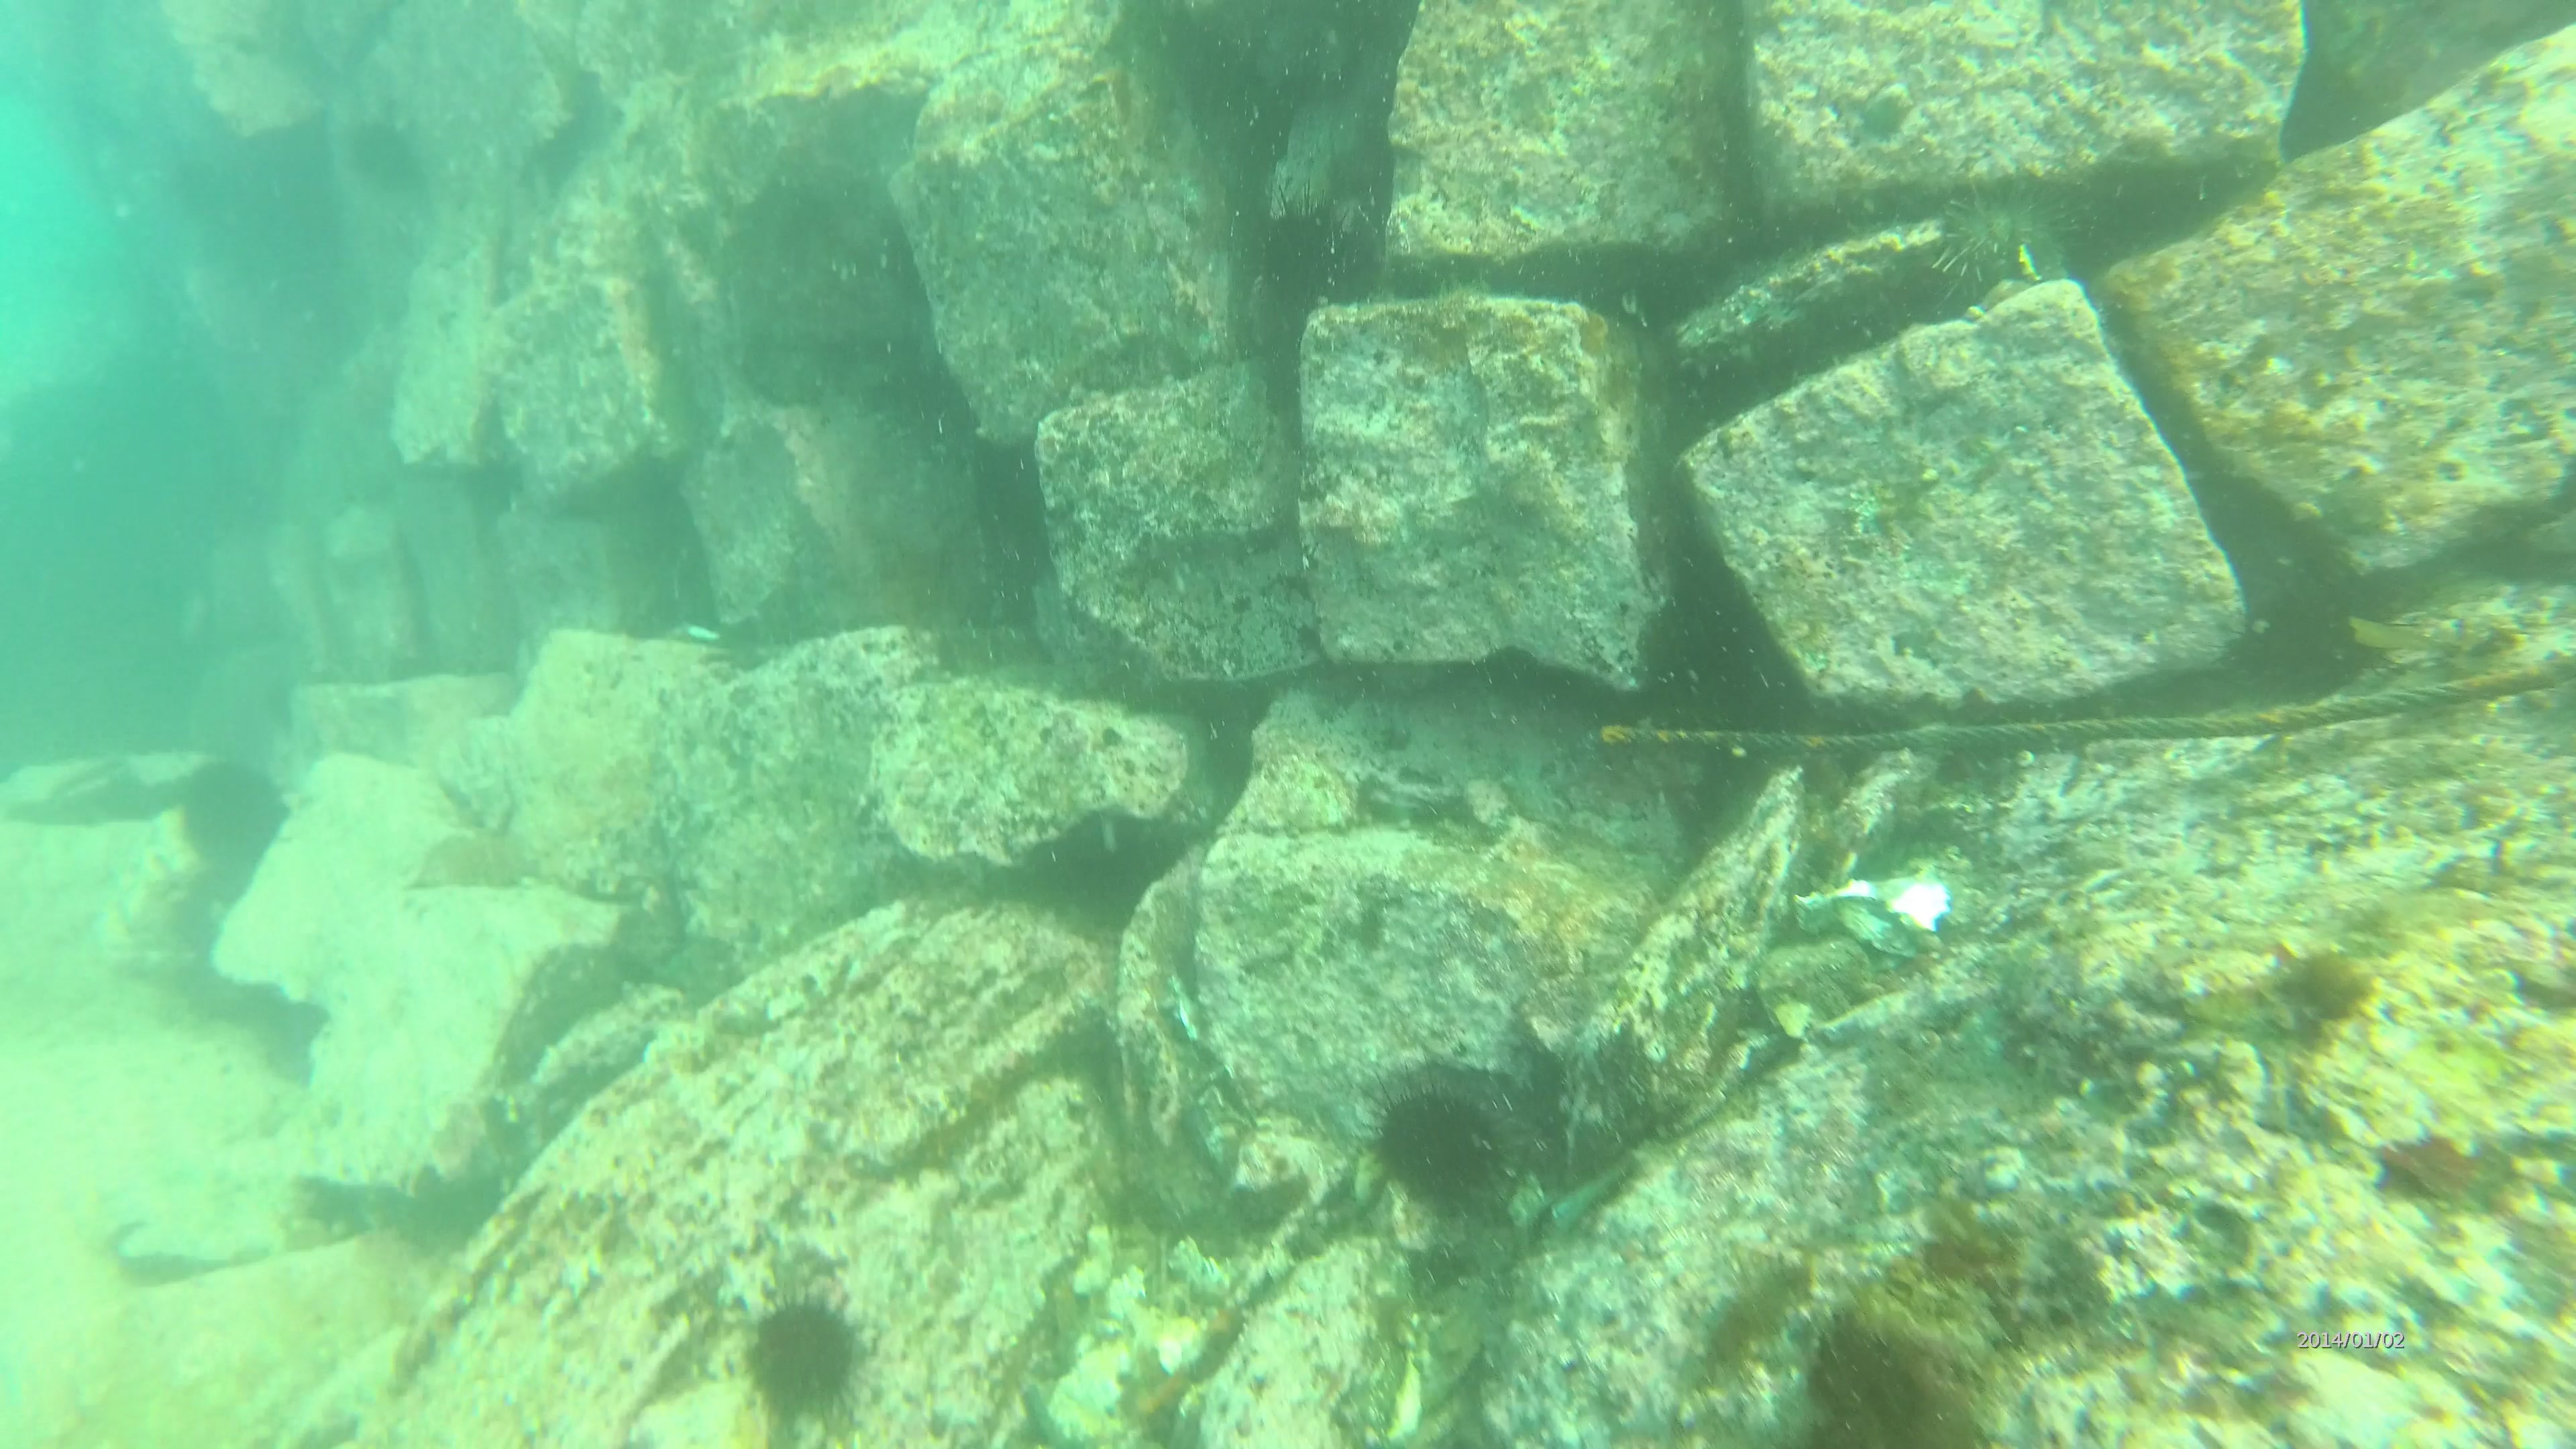echinus: (1364, 1074, 1509, 1207), (741, 1290, 876, 1422), (1941, 180, 2074, 303), (1242, 191, 1371, 311), (172, 757, 294, 869)
